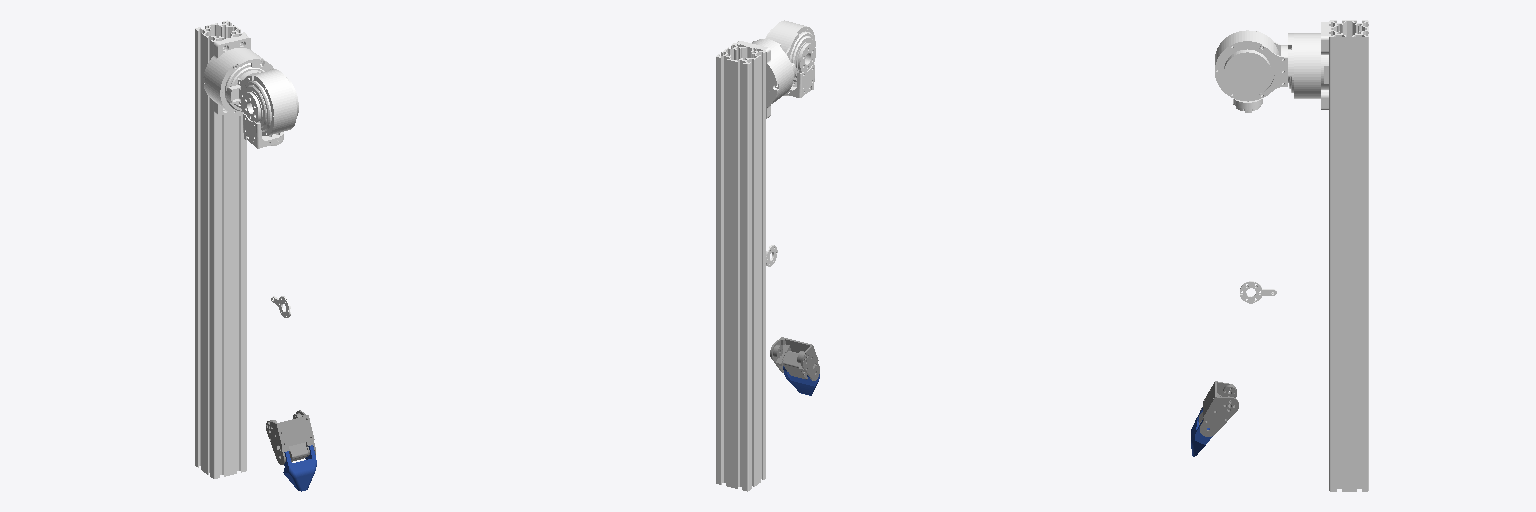
robot.urdf — robot:
<?xml version="1.0" ?>
<!-- Generated using onshape-to-robot -->
<!-- Onshape https://cad.onshape.com/documents/8728c7fdb0e0b3c78180e1fb/w/b72c5d895a7b03d249830939/e/c77dbd6d3fbd22e2e0636f89 -->
<robot name="robot">
  <!-- Link hfsb6_6060_750_1_step -->
  <link name="hfsb6_6060_750_1_step">
    <inertial>
      <origin xyz="0 0 0" rpy="0 0 0"/>
      <mass value="1e-09"/>
      <inertia ixx="1e-09" ixy="0" ixz="0" iyy="1e-09" iyz="0" izz="1e-09"/>
    </inertial>
    <!-- Part hfsb6_6060_750_1_step_parts -->
    <visual>
      <origin xyz="0 0 0" rpy="0 -0 0"/>
      <geometry>
        <mesh filename="package://assets/merged/hfsb6_6060_750_1_step_visual.stl"/>
      </geometry>
      <material name="hfsb6_6060_750_1_step_parts_material">
        <color rgba="1.0 1.0 1.0 1.0"/>
      </material>
    </visual>
    <collision>
      <origin xyz="0 0 0" rpy="0 -0 0"/>
      <geometry>
        <mesh filename="package://assets/merged/hfsb6_6060_750_1_step_collision.stl"/>
      </geometry>
    </collision>
  </link>
  <!-- Link dm_j8009p_2_step_1 -->
  <link name="dm_j8009p_2_step_1">
    <inertial>
      <origin xyz="0 0 0" rpy="0 0 0"/>
      <mass value="1e-09"/>
      <inertia ixx="1e-09" ixy="0" ixz="0" iyy="1e-09" iyz="0" izz="1e-09"/>
    </inertial>
    <!-- Part dm_j8009p_2_step_1_parts -->
    <visual>
      <origin xyz="-0.0207418 -0.688688 -0.0925" rpy="-1.5708 0 -0.0301087"/>
      <geometry>
        <mesh filename="package://assets/merged/dm_j8009p_2_step_1_visual.stl"/>
      </geometry>
      <material name="dm_j8009p_2_step_1_parts_material">
        <color rgba="1.0 1.0 1.0 1.0"/>
      </material>
    </visual>
    <collision>
      <origin xyz="-0.0207418 -0.688688 -0.0925" rpy="-1.5708 0 -0.0301087"/>
      <geometry>
        <mesh filename="package://assets/merged/dm_j8009p_2_step_1_collision.stl"/>
      </geometry>
    </collision>
  </link>
  <!-- Link j2_b_2_step -->
  <link name="j2_b_2_step">
    <inertial>
      <origin xyz="0 0 0" rpy="0 0 0"/>
      <mass value="1e-09"/>
      <inertia ixx="1e-09" ixy="0" ixz="0" iyy="1e-09" iyz="0" izz="1e-09"/>
    </inertial>
    <!-- Part j2_b_2_step_parts -->
    <visual>
      <origin xyz="0.141595 0.691012 -0.00935821" rpy="3.14159 1.54069 1.5866"/>
      <geometry>
        <mesh filename="package://assets/merged/j2_b_2_step_visual.stl"/>
      </geometry>
      <material name="j2_b_2_step_parts_material">
        <color rgba="1.0 1.0 1.0 1.0"/>
      </material>
    </visual>
    <collision>
      <origin xyz="0.141595 0.691012 -0.00935821" rpy="3.14159 1.54069 1.5866"/>
      <geometry>
        <mesh filename="package://assets/merged/j2_b_2_step_collision.stl"/>
      </geometry>
    </collision>
  </link>
  <!-- Link dm_j4340_2_step -->
  <link name="dm_j4340_2_step">
    <inertial>
      <origin xyz="0 0 0" rpy="0 0 0"/>
      <mass value="1e-09"/>
      <inertia ixx="1e-09" ixy="0" ixz="0" iyy="1e-09" iyz="0" izz="1e-09"/>
    </inertial>
    <!-- Part dm_j4340_2_step_parts -->
    <visual>
      <origin xyz="-0.0207418 0.141595 -0.624762" rpy="-0.0158141 0.030105 -0.000476052"/>
      <geometry>
        <mesh filename="package://assets/merged/dm_j4340_2_step_visual.stl"/>
      </geometry>
      <material name="dm_j4340_2_step_parts_material">
        <color rgba="1.0 1.0 1.0 1.0"/>
      </material>
    </visual>
    <collision>
      <origin xyz="-0.0207418 0.141595 -0.624762" rpy="-0.0158141 0.030105 -0.000476052"/>
      <geometry>
        <mesh filename="package://assets/merged/dm_j4340_2_step_collision.stl"/>
      </geometry>
    </collision>
  </link>
  <!-- Link dm_j4310_1_2_step -->
  <link name="dm_j4310_1_2_step">
    <inertial>
      <origin xyz="0 0 0" rpy="0 0 0"/>
      <mass value="1e-09"/>
      <inertia ixx="1e-09" ixy="0" ixz="0" iyy="1e-09" iyz="0" izz="1e-09"/>
    </inertial>
    <!-- Part dm_j4310_1_2_step_parts -->
    <visual>
      <origin xyz="-0.0212019 -0.471012 -0.173077" rpy="-1.58669 0.00277318 -0.0301051"/>
      <geometry>
        <mesh filename="package://assets/merged/dm_j4310_1_2_step_visual.stl"/>
      </geometry>
      <material name="dm_j4310_1_2_step_parts_material">
        <color rgba="1.0 1.0 1.0 1.0"/>
      </material>
    </visual>
    <collision>
      <origin xyz="-0.0212019 -0.471012 -0.173077" rpy="-1.58669 0.00277318 -0.0301051"/>
      <geometry>
        <mesh filename="package://assets/merged/dm_j4310_1_2_step_collision.stl"/>
      </geometry>
    </collision>
  </link>
  <!-- Link j6_a_3_step -->
  <link name="j6_a_3_step">
    <inertial>
      <origin xyz="0 0 0" rpy="0 0 0"/>
      <mass value="1e-09"/>
      <inertia ixx="1e-09" ixy="0" ixz="0" iyy="1e-09" iyz="0" izz="1e-09"/>
    </inertial>
    <!-- Part j6_a_3_step_parts -->
    <visual>
      <origin xyz="-0.0212019 0.141577 -0.375512" rpy="-0.0158141 0.030105 0.00277444"/>
      <geometry>
        <mesh filename="package://assets/merged/j6_a_3_step_visual.stl"/>
      </geometry>
      <material name="j6_a_3_step_parts_material">
        <color rgba="1.0 1.0 1.0 1.0"/>
      </material>
    </visual>
    <collision>
      <origin xyz="-0.0212019 0.141577 -0.375512" rpy="-0.0158141 0.030105 0.00277444"/>
      <geometry>
        <mesh filename="package://assets/merged/j6_a_3_step_collision.stl"/>
      </geometry>
    </collision>
  </link>
  <!-- Link j7_e_2_step -->
  <link name="j7_e_2_step">
    <inertial>
      <origin xyz="0 0 0" rpy="0 0 0"/>
      <mass value="1e-09"/>
      <inertia ixx="1e-09" ixy="0" ixz="0" iyy="1e-09" iyz="0" izz="1e-09"/>
    </inertial>
    <!-- Part j7_e_2_step_parts -->
    <visual>
      <origin xyz="0.1453 -0.328405 -0.03817" rpy="-0.0535505 -1.54067 -1.52187"/>
      <geometry>
        <mesh filename="package://assets/merged/j7_e_2_step_visual.stl"/>
      </geometry>
      <material name="j7_e_2_step_parts_material">
        <color rgba="1.0 1.0 1.0 1.0"/>
      </material>
    </visual>
    <collision>
      <origin xyz="0.1453 -0.328405 -0.03817" rpy="-0.0535505 -1.54067 -1.52187"/>
      <geometry>
        <mesh filename="package://assets/merged/j7_e_2_step_collision.stl"/>
      </geometry>
    </collision>
  </link>
  <!-- Joint from j6_a_3_step to j7_e_2_step -->
  <joint name="r_wrist_roll" type="revolute">
    <origin xyz="0.0172 2.81739e-05 -0.0455" rpy="1.5708 0.0112042 1.57243"/>
    <parent link="j6_a_3_step"/>
    <child link="j7_e_2_step"/>
    <axis xyz="0 0 -1"/>
    <limit effort="10" velocity="10" lower="-0.796602" upper="0.774194"/>
  </joint>
  <!-- Link dm_j4310_1_2_step_2 -->
  <link name="dm_j4310_1_2_step_2">
    <inertial>
      <origin xyz="0 0 0" rpy="0 0 0"/>
      <mass value="1e-09"/>
      <inertia ixx="1e-09" ixy="0" ixz="0" iyy="1e-09" iyz="0" izz="1e-09"/>
    </inertial>
    <!-- Part dm_j4310_1_2_step_2_parts -->
    <visual>
      <origin xyz="-0.14446 0.25341 -0.05527" rpy="-0.0535505 -1.54067 1.61972"/>
      <geometry>
        <mesh filename="package://assets/merged/dm_j4310_1_2_step_2_visual.stl"/>
      </geometry>
      <material name="dm_j4310_1_2_step_2_parts_material">
        <color rgba="1.0 1.0 1.0 1.0"/>
      </material>
    </visual>
    <collision>
      <origin xyz="-0.14446 0.25341 -0.05527" rpy="-0.0535505 -1.54067 1.61972"/>
      <geometry>
        <mesh filename="package://assets/merged/dm_j4310_1_2_step_2_collision.stl"/>
      </geometry>
    </collision>
  </link>
  <!-- Link gripper_base -->
  <link name="gripper_base">
    <inertial>
      <origin xyz="0.000738567 0.084598 0.0158667" rpy="0 0 0"/>
      <mass value="0.208245"/>
      <inertia ixx="0.000366288" ixy="4.37234e-07" ixz="3.64051e-06" iyy="0.000294868" iyz="-3.03598e-05" izz="0.00017809"/>
    </inertial>
    <!-- Part gripper_base_parts -->
    <visual>
      <origin xyz="0.000738567 0.084598 0.0158667" rpy="1.56615 -0.00147308 0.00521711"/>
      <geometry>
        <mesh filename="package://assets/merged/gripper_base_visual.stl"/>
      </geometry>
      <material name="gripper_base_parts_material">
        <color rgba="0.698026 0.790622 0.846179 1"/>
      </material>
    </visual>
    <collision>
      <origin xyz="0.000738567 0.084598 0.0158667" rpy="1.56615 -0.00147308 0.00521711"/>
      <geometry>
        <mesh filename="package://assets/merged/gripper_base_collision.stl"/>
      </geometry>
    </collision>
  </link>
  <!-- Frame openarm_fix (dummy link + fixed joint) -->
  <link name="openarm_fix">
    <origin xyz="0 0 0" rpy="0 -0 0"/>
    <inertial>
      <origin xyz="0 0 0" rpy="0 0 0"/>
      <mass value="1e-9"/>
      <inertia ixx="0" ixy="0" ixz="0" iyy="0" iyz="0" izz="0"/>
    </inertial>
  </link>
  <joint name="openarm_fix_frame" type="fixed">
    <origin xyz="-0 0.0495 0.0205" rpy="1.5708 1.5708 0"/>
    <parent link="gripper_base"/>
    <child link="openarm_fix"/>
    <axis xyz="0 0 0"/>
  </joint>
  <!-- Frame camera (dummy link + fixed joint) -->
  <link name="camera">
    <origin xyz="0 0 0" rpy="0 -0 0"/>
    <inertial>
      <origin xyz="0 0 0" rpy="0 0 0"/>
      <mass value="1e-9"/>
      <inertia ixx="0" ixy="0" ixz="0" iyy="0" iyz="0" izz="0"/>
    </inertial>
  </link>
  <joint name="camera_frame" type="fixed">
    <origin xyz="0.0689844 0.0662 0.0278102" rpy="-1.5708 1.5708 0"/>
    <parent link="gripper_base"/>
    <child link="camera"/>
    <axis xyz="0 0 0"/>
  </joint>
  <!-- Frame gripper (dummy link + fixed joint) -->
  <link name="gripper">
    <origin xyz="0 0 0" rpy="0 -0 0"/>
    <inertial>
      <origin xyz="0 0 0" rpy="0 0 0"/>
      <mass value="1e-9"/>
      <inertia ixx="0" ixy="0" ixz="0" iyy="0" iyz="0" izz="0"/>
    </inertial>
  </link>
  <joint name="gripper_frame" type="fixed">
    <origin xyz="-0 0.1395 0.0305" rpy="-1.5708 1.5708 0"/>
    <parent link="gripper_base"/>
    <child link="gripper"/>
    <axis xyz="0 0 0"/>
  </joint>
  <!-- Link feetech_sts3215__configuration_default -->
  <link name="feetech_sts3215__configuration_default">
    <inertial>
      <origin xyz="0.0182944 -0.0259223 0.0175868" rpy="0 0 0"/>
      <mass value="0.100722"/>
      <inertia ixx="5.94511e-05" ixy="6.81532e-06" ixz="-4.17039e-07" iyy="4.45642e-05" iyz="1.07118e-06" izz="3.97205e-05"/>
    </inertial>
    <!-- Part feetech_sts3215__configuration_default_parts -->
    <visual>
      <origin xyz="0.0182944 -0.0259223 0.0175868" rpy="2.86176 1.56538 -2.02052"/>
      <geometry>
        <mesh filename="package://assets/merged/feetech_sts3215__configuration_default_visual.stl"/>
      </geometry>
      <material name="feetech_sts3215__configuration_default_parts_material">
        <color rgba="0.647059 0.647059 0.647059 1"/>
      </material>
    </visual>
    <collision>
      <origin xyz="0.0182944 -0.0259223 0.0175868" rpy="2.86176 1.56538 -2.02052"/>
      <geometry>
        <mesh filename="package://assets/merged/feetech_sts3215__configuration_default_collision.stl"/>
      </geometry>
    </collision>
  </link>
  <!-- Link distal -->
  <link name="distal">
    <inertial>
      <origin xyz="-0.0264976 0.00403103 0.0179373" rpy="0 0 0"/>
      <mass value="0.0417207"/>
      <inertia ixx="1.10253e-05" ixy="2.04438e-06" ixz="3.05704e-07" iyy="1.6107e-05" iyz="1.39544e-07" izz="9.41129e-06"/>
    </inertial>
    <!-- Part distal_parts -->
    <visual>
      <origin xyz="-0.0264976 0.00403103 0.0179373" rpy="2.86176 1.56538 2.16827"/>
      <geometry>
        <mesh filename="package://assets/merged/distal_visual.stl"/>
      </geometry>
      <material name="distal_parts_material">
        <color rgba="0.231373 0.380392 0.705882 1"/>
      </material>
    </visual>
    <collision>
      <origin xyz="-0.0264976 0.00403103 0.0179373" rpy="2.86176 1.56538 2.16827"/>
      <geometry>
        <mesh filename="package://assets/merged/distal_collision.stl"/>
      </geometry>
    </collision>
  </link>
  <!-- Joint from feetech_sts3215__configuration_default to distal -->
  <joint name="distal" type="revolute">
    <origin xyz="0.025 -0.0433013 -0.00055" rpy="0 0 2.0944"/>
    <parent link="feetech_sts3215__configuration_default"/>
    <child link="distal"/>
    <axis xyz="0 0 1"/>
    <limit effort="10" velocity="10" lower="-2.0944" upper="0"/>
  </joint>
  <!-- Joint from gripper_base to feetech_sts3215__configuration_default -->
  <joint name="proximal" type="revolute">
    <origin xyz="0.0179344 0.1065 -0.0131898" rpy="1.5708 1.39626 -1.5708"/>
    <parent link="gripper_base"/>
    <child link="feetech_sts3215__configuration_default"/>
    <axis xyz="0 0 1"/>
    <limit effort="10" velocity="10" lower="-1.5708" upper="0"/>
  </joint>
  <!-- Joint from dm_j4310_1_2_step_2 to gripper_base -->
  <joint name="r_wrist_pitch" type="revolute">
    <origin xyz="0.0205 -0 -0.0343" rpy="-1.5708 -1.54592 1.5708"/>
    <parent link="dm_j4310_1_2_step_2"/>
    <child link="gripper_base"/>
    <axis xyz="0 0 1"/>
    <limit effort="10" velocity="10" lower="-1.59567" upper="1.54592"/>
  </joint>
  <!-- Joint from j6_a_3_step to dm_j4310_1_2_step_2 -->
  <joint name="r_wrist_roll_mimic" type="revolute">
    <origin xyz="0.0343 5.61841e-05 -0.1205" rpy="-1.5708 -0.0112042 -1.56916"/>
    <parent link="j6_a_3_step"/>
    <child link="dm_j4310_1_2_step_2"/>
    <axis xyz="0 0 1"/>
    <limit effort="10" velocity="10" lower="-3.141592653589793" upper="3.141592653589793"/>
    <mimic joint="r_wrist_roll_inv" multiplier="1.0"/>
  </joint>
  <!-- Joint from dm_j4310_1_2_step to j6_a_3_step -->
  <joint name="r_wrist_yaw" type="revolute">
    <origin xyz="-0 -0.0955 -0.0315" rpy="-1.5708 0 -0"/>
    <parent link="dm_j4310_1_2_step"/>
    <child link="j6_a_3_step"/>
    <axis xyz="0 0 -1"/>
    <limit effort="10" velocity="10" lower="-1.56916" upper="1.57243"/>
  </joint>
  <!-- Joint from dm_j4340_2_step to dm_j4310_1_2_step -->
  <joint name="r_elbow" type="revolute">
    <origin xyz="-0.000102553 -0.0315498 -0.15375" rpy="1.5708 -0 -0.00325049"/>
    <parent link="dm_j4340_2_step"/>
    <child link="dm_j4310_1_2_step"/>
    <axis xyz="0 0 1"/>
    <limit effort="10" velocity="10" lower="-0" upper="2.44346"/>
  </joint>
  <!-- Joint from j2_b_2_step to dm_j4340_2_step -->
  <joint name="r_arm_yaw" type="revolute">
    <origin xyz="-0 0.06625 -0.0301" rpy="1.5708 1.5708 0"/>
    <parent link="j2_b_2_step"/>
    <child link="dm_j4340_2_step"/>
    <axis xyz="0 0 1"/>
    <limit effort="10" velocity="10" lower="-1.56755" upper="1.57405"/>
  </joint>
  <!-- Joint from dm_j8009p_2_step_1 to j2_b_2_step -->
  <joint name="r_arm_roll" type="revolute">
    <origin xyz="-0.0301 0 0.06" rpy="-1.5708 1.55499 1.5708"/>
    <parent link="dm_j8009p_2_step_1"/>
    <child link="j2_b_2_step"/>
    <axis xyz="0 0 1"/>
    <limit effort="10" velocity="10" lower="-0.158726" upper="3.33193"/>
  </joint>
  <!-- Joint from hfsb6_6060_750_1_step to dm_j8009p_2_step_1 -->
  <joint name="r_arm_pitch" type="revolute">
    <origin xyz="-0 -0.0925 0.689" rpy="1.5708 -0.0301087 -0"/>
    <parent link="hfsb6_6060_750_1_step"/>
    <child link="dm_j8009p_2_step_1"/>
    <axis xyz="0 0 1"/>
    <limit effort="10" velocity="10" lower="-1.0301" upper="2.96989"/>
  </joint>
</robot>

--- What the picture shows (computed from the rendered views, not written in the file) ---
The picture shows the robot from 3 angles, left to right: view 1: azimuth 30°, elevation 25°; view 2: azimuth 150°, elevation 25°; view 3: azimuth 270°, elevation 25°; orthographic projection.
Model robot with 14 links and 13 joints (10 revolute, 3 fixed), rooted at hfsb6_6060_750_1_step, posed all joints at 0.
Links seen in each view (by area): view 1: hfsb6_6060_750_1_step, dm_j8009p_2_step_1, feetech_sts3215__configuration_default, j2_b_2_step, distal; view 2: hfsb6_6060_750_1_step, feetech_sts3215__configuration_default, dm_j8009p_2_step_1, j2_b_2_step; view 3: hfsb6_6060_750_1_step, dm_j8009p_2_step_1, feetech_sts3215__configuration_default.
Boxes of the visible links, x1=… form: hfsb6_6060_750_1_step: x1=195, y1=20, x2=273, y2=478; dm_j8009p_2_step_1: x1=226, y1=69, x2=298, y2=135; feetech_sts3215__configuration_default: x1=266, y1=410, x2=315, y2=464; j2_b_2_step: x1=242, y1=92, x2=283, y2=148; distal: x1=283, y1=445, x2=316, y2=491; hfsb6_6060_750_1_step: x1=716, y1=39, x2=793, y2=491; feetech_sts3215__configuration_default: x1=770, y1=337, x2=819, y2=380; dm_j8009p_2_step_1: x1=765, y1=20, x2=815, y2=86; j2_b_2_step: x1=784, y1=43, x2=815, y2=97; hfsb6_6060_750_1_step: x1=1288, y1=20, x2=1368, y2=491; dm_j8009p_2_step_1: x1=1215, y1=30, x2=1287, y2=100; feetech_sts3215__configuration_default: x1=1199, y1=381, x2=1238, y2=436.
Bounding box of the posed robot: 0.098 × 0.2676 × 0.75 m (x, y, z).
Meshes: 11 distinct files referenced, 6 mesh visuals loaded (6 binary STL); not drawn: 5 (reference not matched to a file when rendering).
